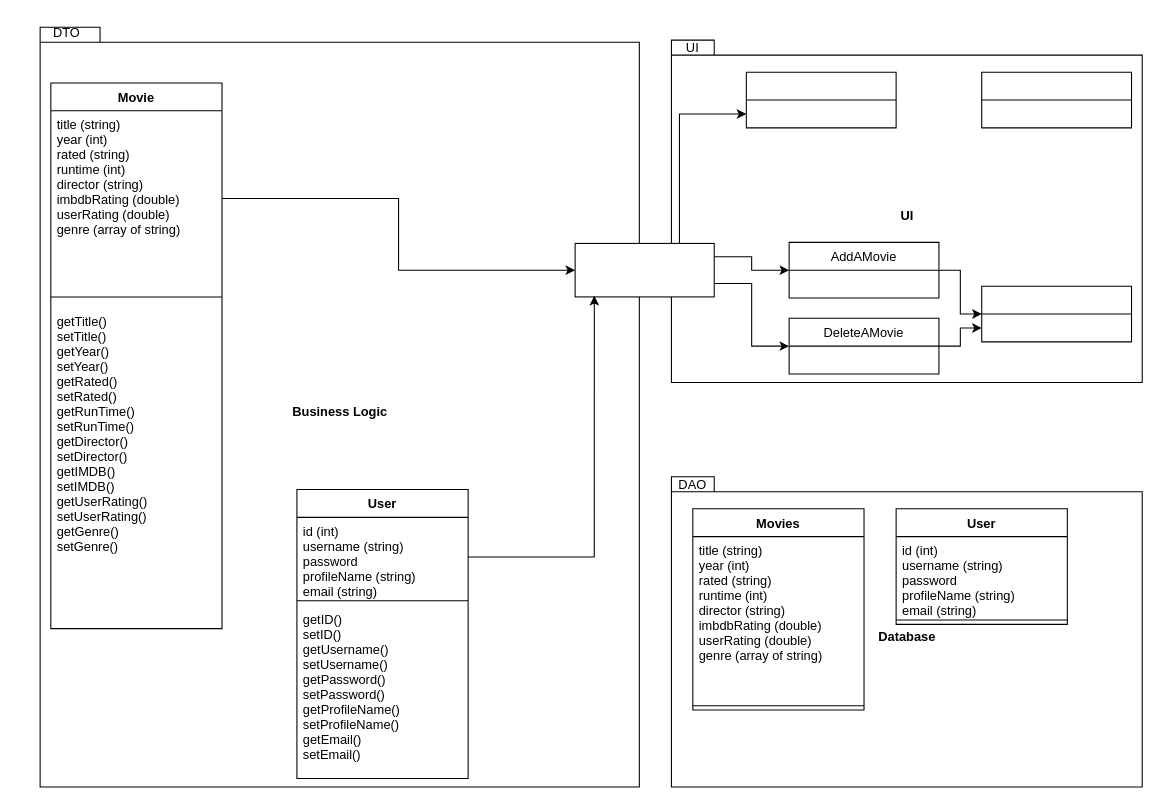
Image size: 1161x806. Some labels were removed from this diagram. The shapes that lost their labels are listed below. From the top down, each one's centre as x and y in pixels, then its label:
At point 820,99: "Login".
At point 1056,99: "Controller".
At point 644,269: "Service Endpoint (SEI)".
At point 1056,313: "MyMovieScreen".
